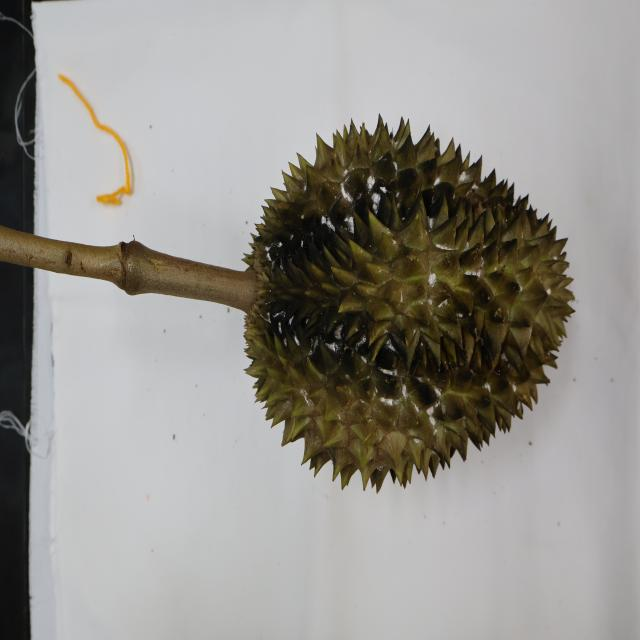defective: (242, 117, 578, 484)
